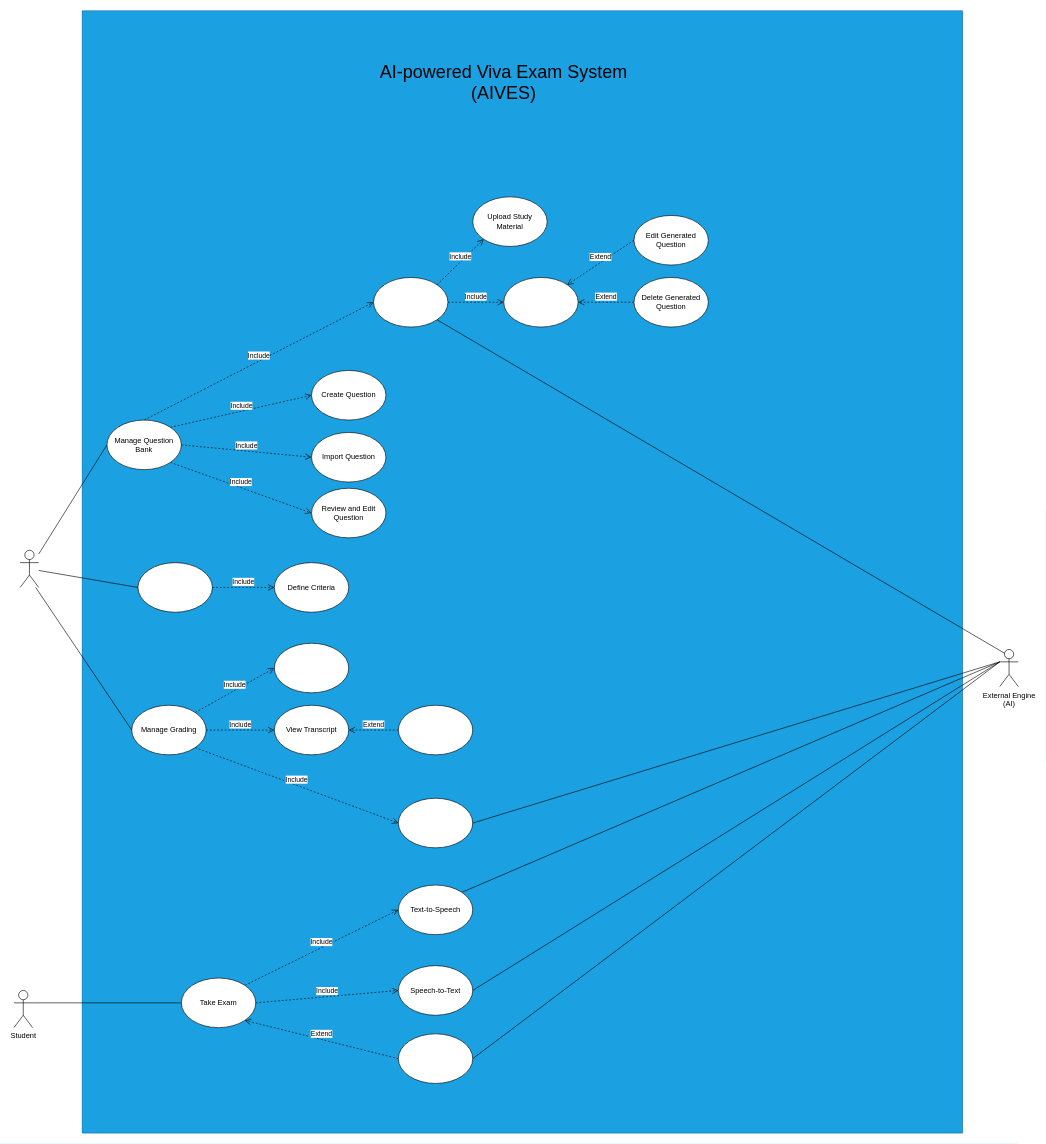
The diagram is 1046 pixels wide and 1144 high, and some of its shapes have lost their labels. The shapes that lost their labels are listed below. From the top down, each one's centre as x and y in pixels, then its label:
(410,302): Generate via AI
(540,302): Approve Generated Question
(29,568): Instructor
(174,587): Manage Rubic
(311,668): Finalize Score
(435,730): Adjust Score
(435,823): Recommend Grade by AI
(435,1058): Generate Follow-up
